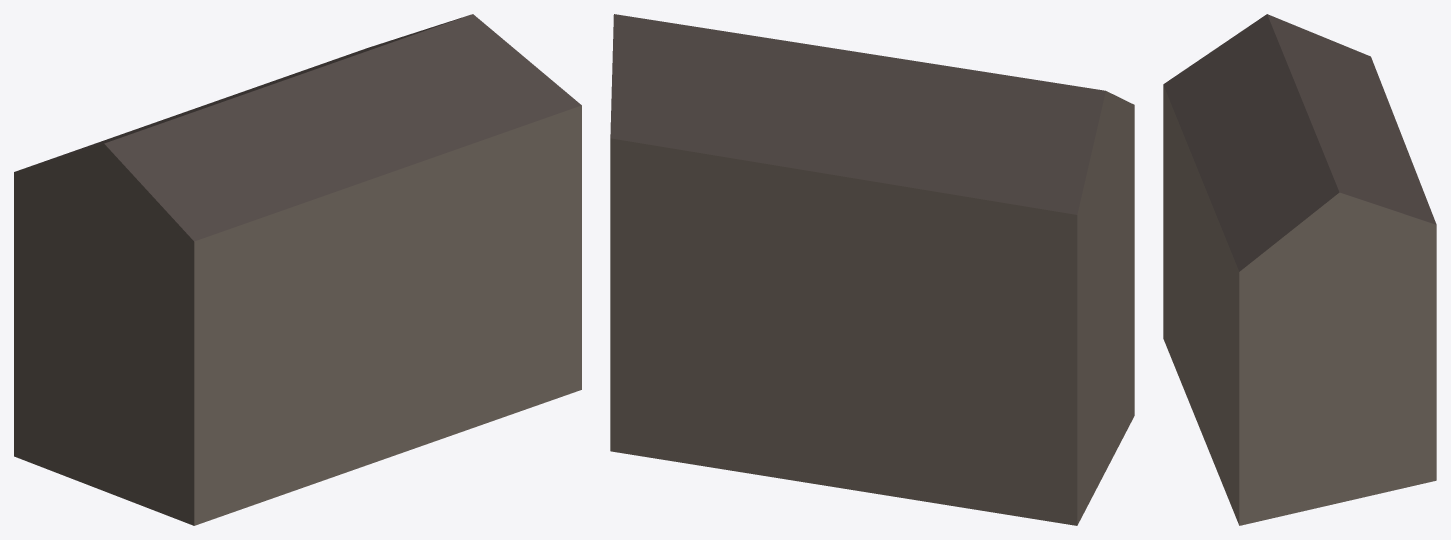
3 renders of one model, left to right at view 1: azimuth 30°, elevation 25°; view 2: azimuth 150°, elevation 25°; view 3: azimuth 270°, elevation 25°, orthographic. The views are drawn at different scales.
Visible parts, largest first — view 1: HP-w1198893545; view 2: HP-w1198893545; view 3: HP-w1198893545.
Part boxes in pixels (box(x1,y1,x2,y2)): HP-w1198893545: box(14, 14, 581, 525); HP-w1198893545: box(610, 14, 1134, 525); HP-w1198893545: box(1163, 14, 1436, 525).
Size of the model in its own units: 10.91 by 7.33 by 5.85.
